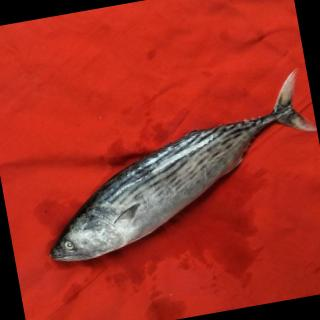Ikan: (20, 79, 320, 287)
